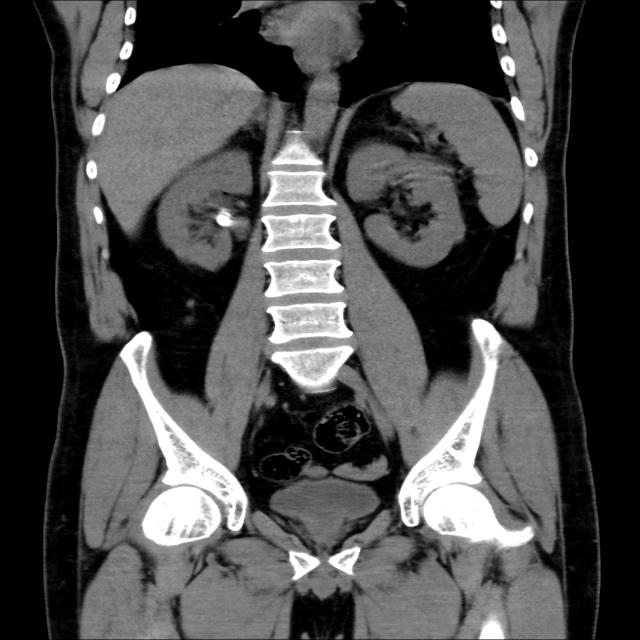kidneystone: (216, 209, 233, 228)
